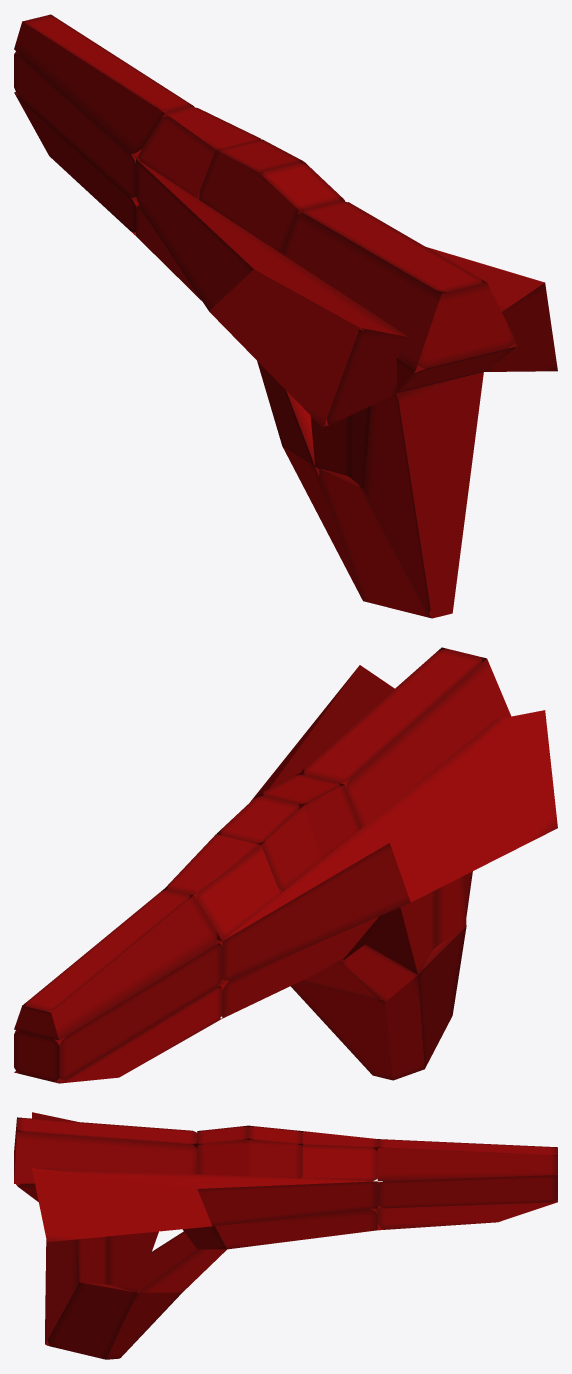
The model's file is pistol.fbx.
3 views of the same model, one above another, from view 1: azimuth 30°, elevation 25°; view 2: azimuth 150°, elevation 25°; view 3: azimuth 270°, elevation 25° (orthographic). The views are drawn at different scales.
Parts seen in each view (by area): view 1: cuboid_14, cuboid_15, cuboid_12, cuboid_9, cuboid_3, cuboid_13, cuboid_8, cuboid_7, cuboid_11, cuboid, cuboid_10, cuboid_6 (+4 smaller); view 2: cuboid_14, cuboid_15, cuboid_9, cuboid_7, cuboid_4, cuboid, cuboid_8, cuboid_10, cuboid_5, cuboid_13, cuboid_6, cuboid_11 (+2 smaller); view 3: cuboid_13, cuboid_15, cuboid_9, cuboid, cuboid_7, cuboid_3, cuboid_5, cuboid_8, cuboid_6, cuboid_10, cuboid_12, cuboid_11 (+2 smaller).
Boxes of the visible parts, x1=… form: cuboid_14: x1=136, y1=159, x2=409, y2=427; cuboid_15: x1=282, y1=201, x2=517, y2=370; cuboid_12: x1=363, y1=372, x2=483, y2=618; cuboid_9: x1=14, y1=14, x2=193, y2=153; cuboid_3: x1=317, y1=468, x2=431, y2=618; cuboid_13: x1=426, y1=247, x2=557, y2=371; cuboid_8: x1=136, y1=106, x2=263, y2=199; cuboid_7: x1=14, y1=51, x2=167, y2=197; cuboid_11: x1=240, y1=162, x2=345, y2=253; cuboid: x1=257, y1=361, x2=349, y2=476; cuboid_10: x1=199, y1=139, x2=304, y2=226; cuboid_6: x1=14, y1=92, x2=137, y2=235; cuboid_14: x1=222, y1=710, x2=557, y2=982; cuboid_15: x1=300, y1=647, x2=511, y2=827; cuboid_9: x1=14, y1=889, x2=216, y2=1040; cuboid_7: x1=14, y1=940, x2=222, y2=1082; cuboid_4: x1=290, y1=960, x2=424, y2=1080; cuboid: x1=300, y1=890, x2=436, y2=1001; cuboid_8: x1=162, y1=834, x2=280, y2=940; cuboid_10: x1=216, y1=794, x2=322, y2=893; cuboid_5: x1=217, y1=916, x2=378, y2=1018; cuboid_13: x1=250, y1=665, x2=394, y2=801; cuboid_6: x1=54, y1=983, x2=222, y2=1083; cuboid_11: x1=259, y1=773, x2=361, y2=859; cuboid_13: x1=32, y1=1167, x2=377, y2=1242; cuboid_15: x1=14, y1=1117, x2=197, y2=1183; cuboid_9: x1=377, y1=1139, x2=557, y2=1181; cuboid: x1=107, y1=1226, x2=227, y2=1292; cuboid_7: x1=377, y1=1175, x2=557, y2=1208; cuboid_3: x1=45, y1=1282, x2=136, y2=1359; cuboid_5: x1=215, y1=1208, x2=377, y2=1249; cuboid_8: x1=302, y1=1131, x2=377, y2=1180; cuboid_6: x1=377, y1=1182, x2=557, y2=1230; cuboid_10: x1=248, y1=1125, x2=302, y2=1178; cuboid_12: x1=45, y1=1239, x2=79, y2=1344; cuboid_11: x1=197, y1=1125, x2=248, y2=1176.
Size of the model in its own units: 17.81 by 26.51 by 56.56.
Materials: 1 (1 with a texture image).
